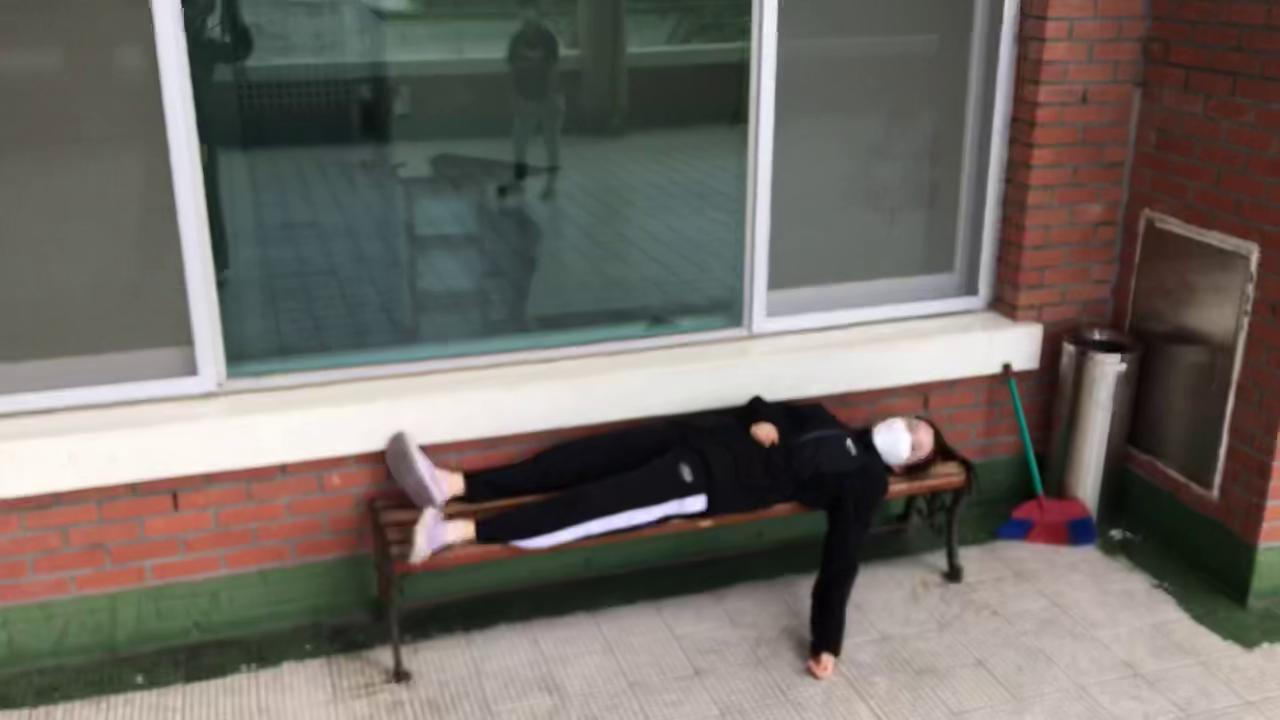sleep: (382, 392, 946, 673)
